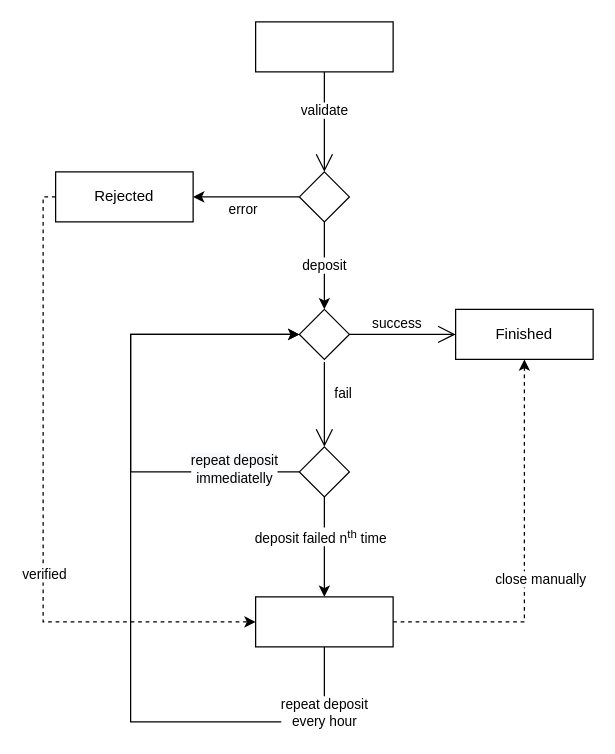
The diagram is 615 pixels wide and 754 high, and some of its shapes have lost their labels. Each missing label, with the box of its shape:
Failed: (254, 596, 393, 647)
Started: (254, 21, 393, 72)
